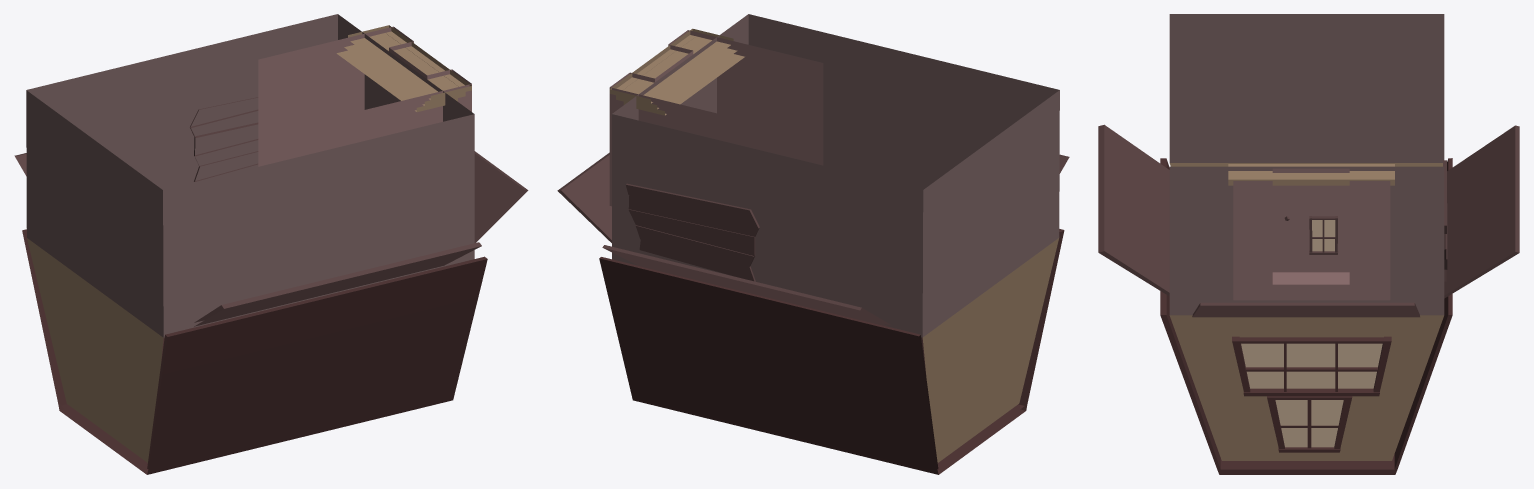
Rendered from building 5.fbx.
The picture shows the model from 3 angles, left to right: view 1: azimuth 30°, elevation 25°; view 2: azimuth 150°, elevation 25°; view 3: azimuth 270°, elevation 25°; orthographic projection.
Parts seen in each view (by area): view 1: Hansel1:polySurface171; view 2: Hansel1:polySurface171; view 3: Hansel1:polySurface171.
Boxes of the visible parts, x1,y1,x2,y2 form: Hansel1:polySurface171: [14, 14, 528, 474]; Hansel1:polySurface171: [557, 14, 1069, 474]; Hansel1:polySurface171: [1098, 14, 1519, 474].
Size of the model in its own units: 2.5 by 1.91 by 2.38.
